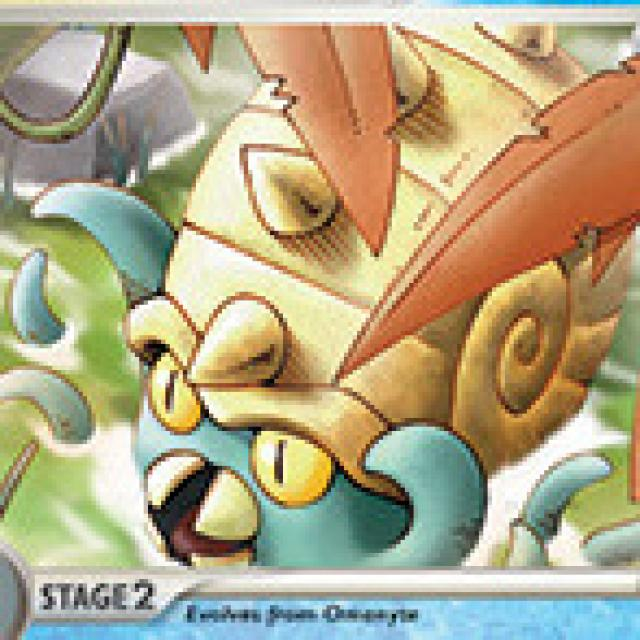Omastar: (130, 144, 584, 584)
